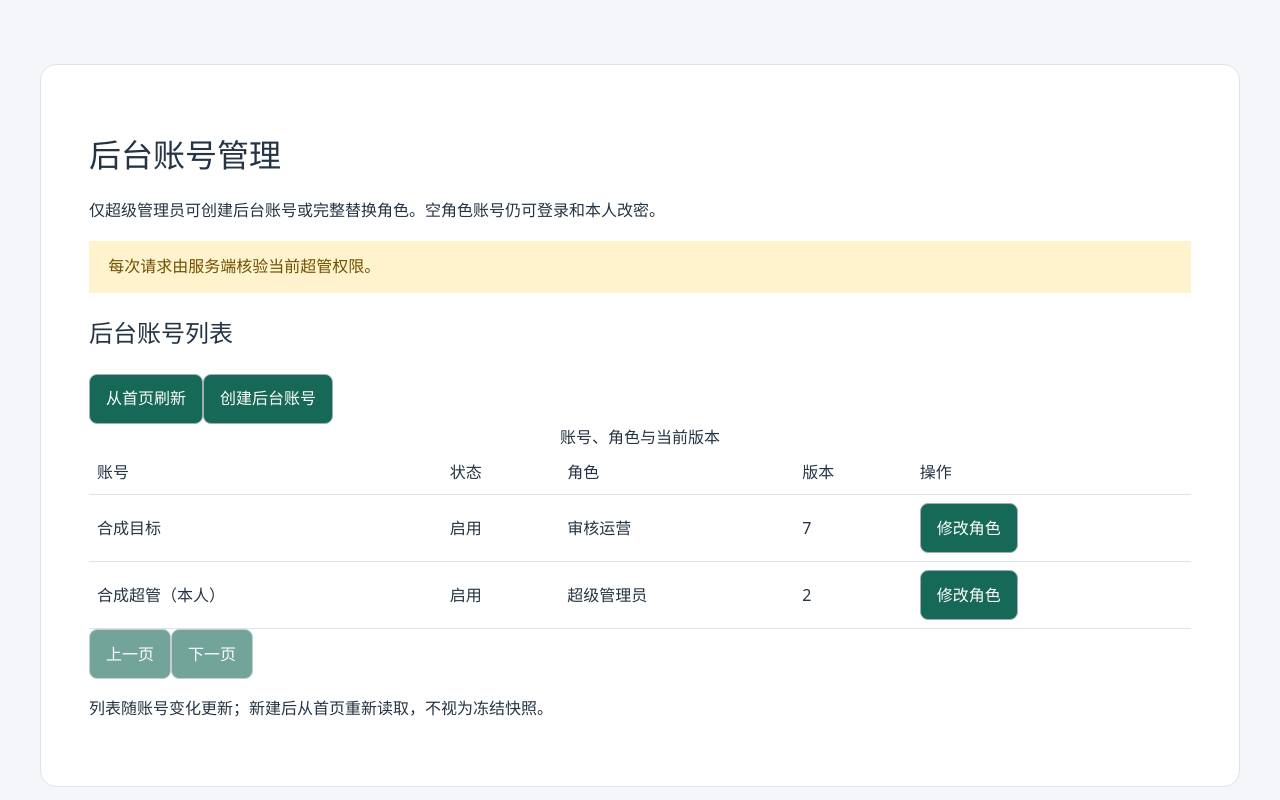
it: T010 REQ-018/019 后台账号管理页面 › 修改角色发送目标版本及完整空角色数组，禁止重复提交
Click the button "修改角色" in the row of "合成目标" at (969, 528), box [920, 503, 1018, 553]
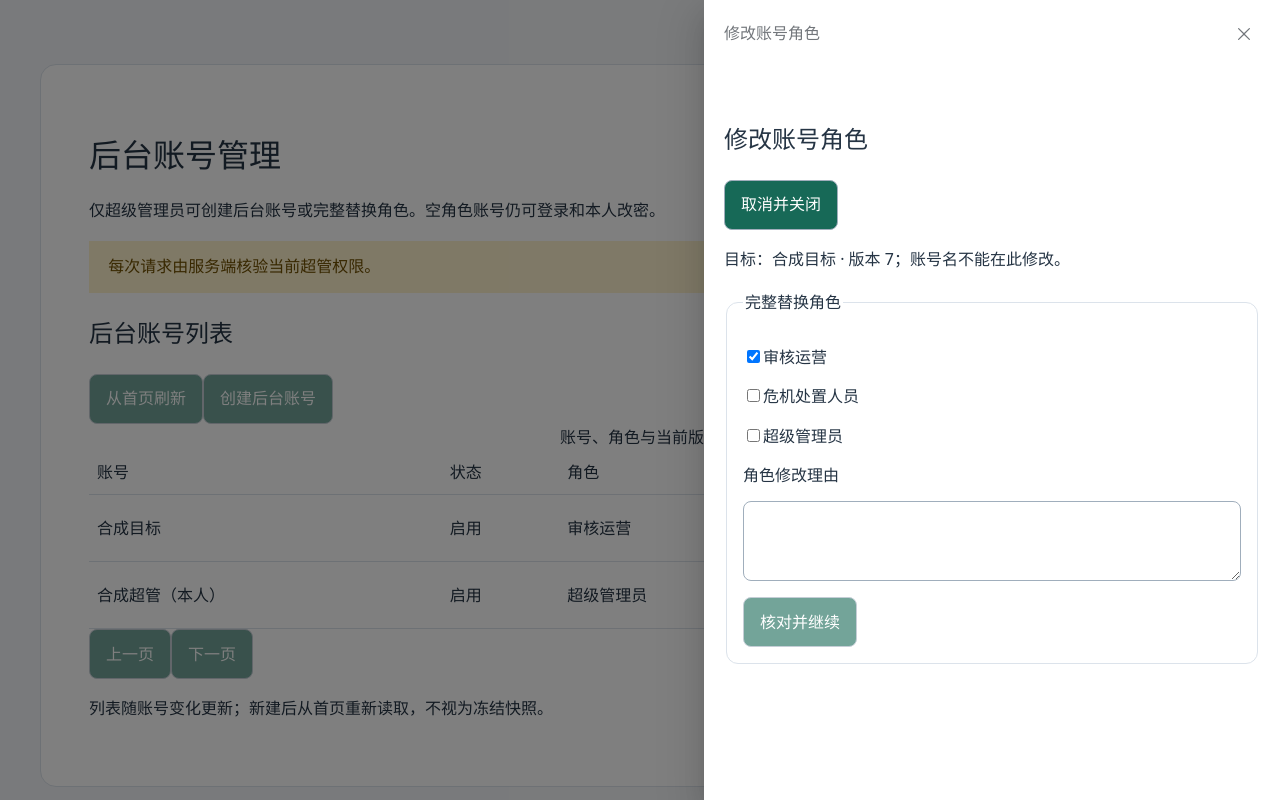
Type "合成授权理由" into the text box with id "account-reason" at (992, 541), box [743, 501, 1241, 581]
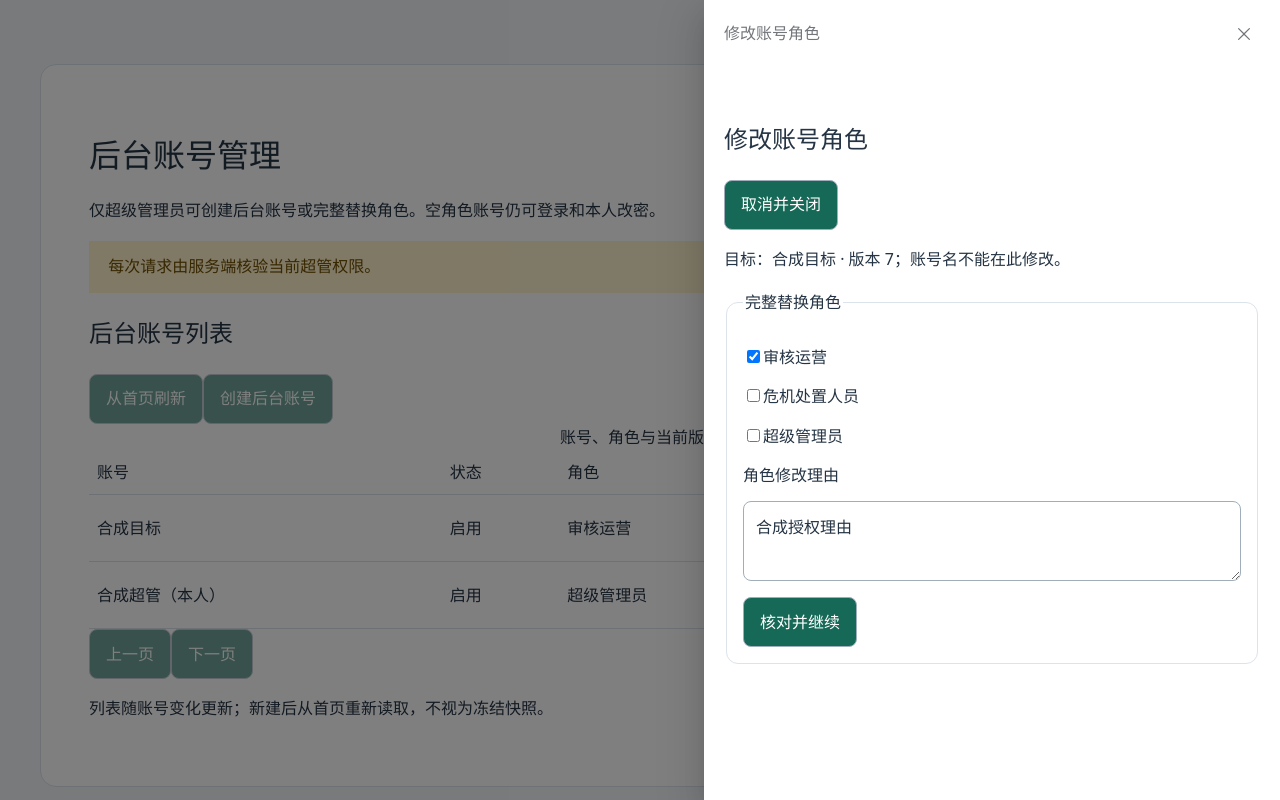
Click the checkbox labelled "审核运营" at (754, 357), box [747, 350, 760, 363]
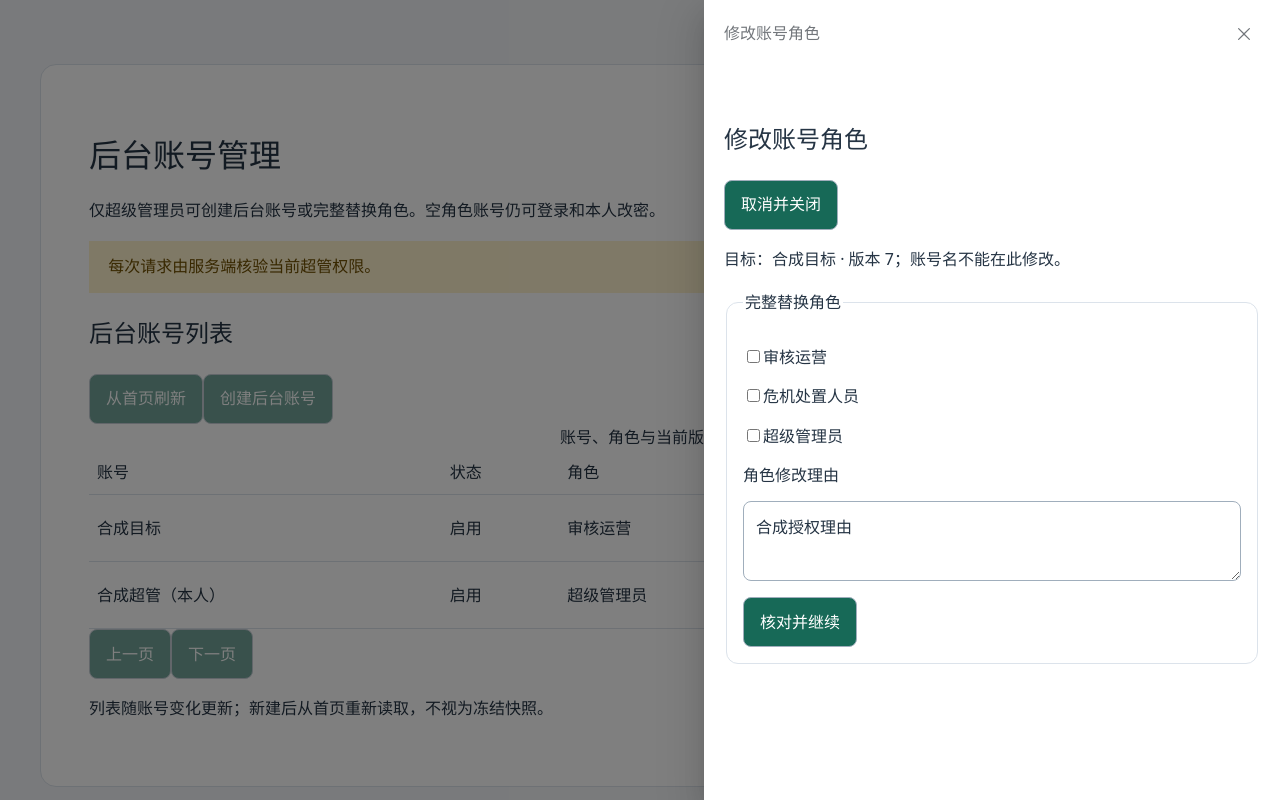
Submit the form, box [724, 289, 1260, 664]
(page scrolled)
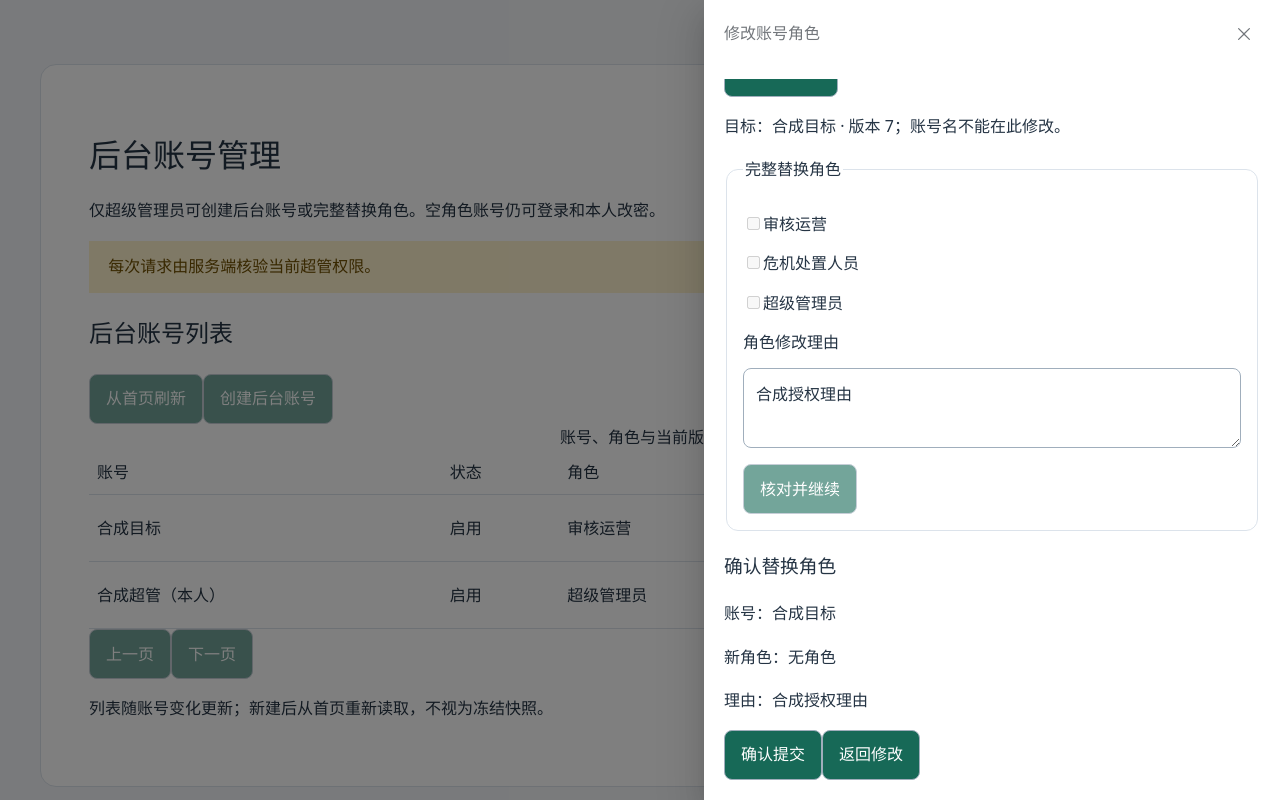
Click the button "确认提交" at (773, 755), box [724, 730, 822, 780]
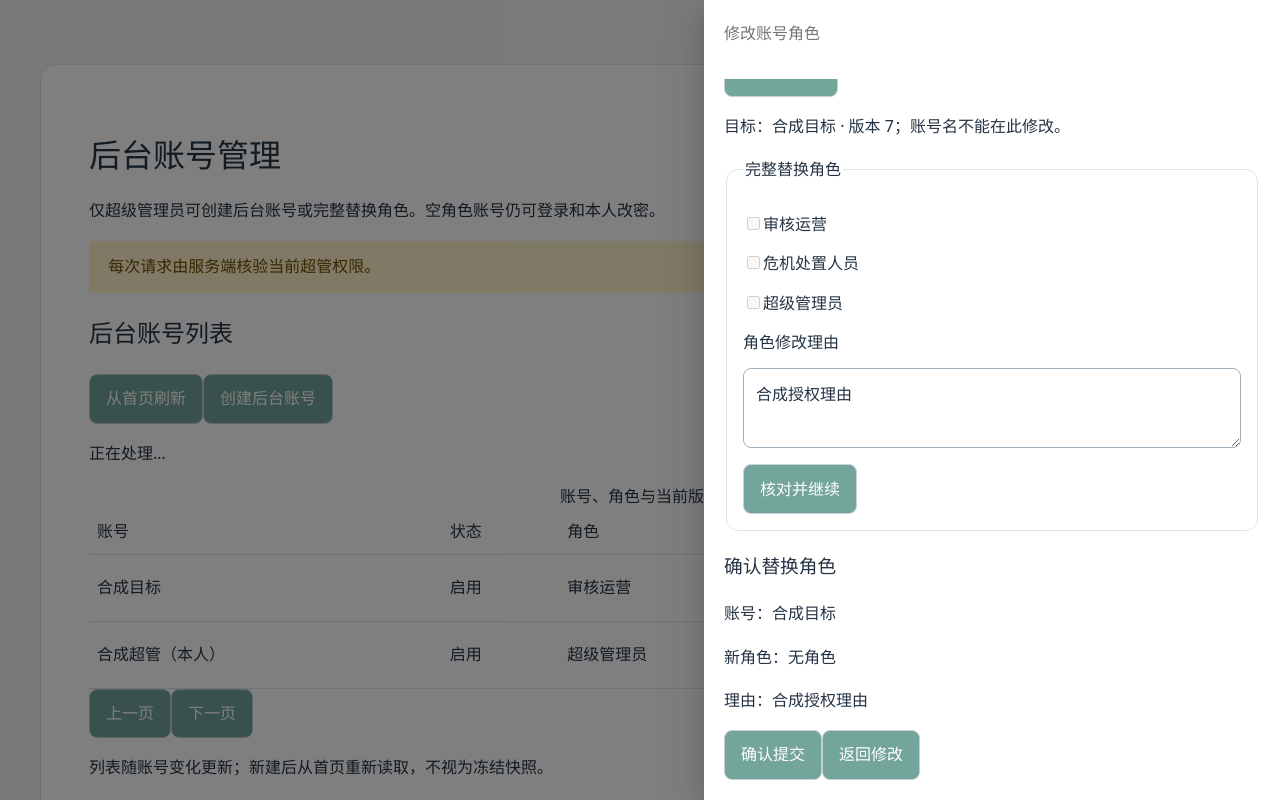
Click the button "确认提交" at (773, 755), box [724, 730, 822, 780]
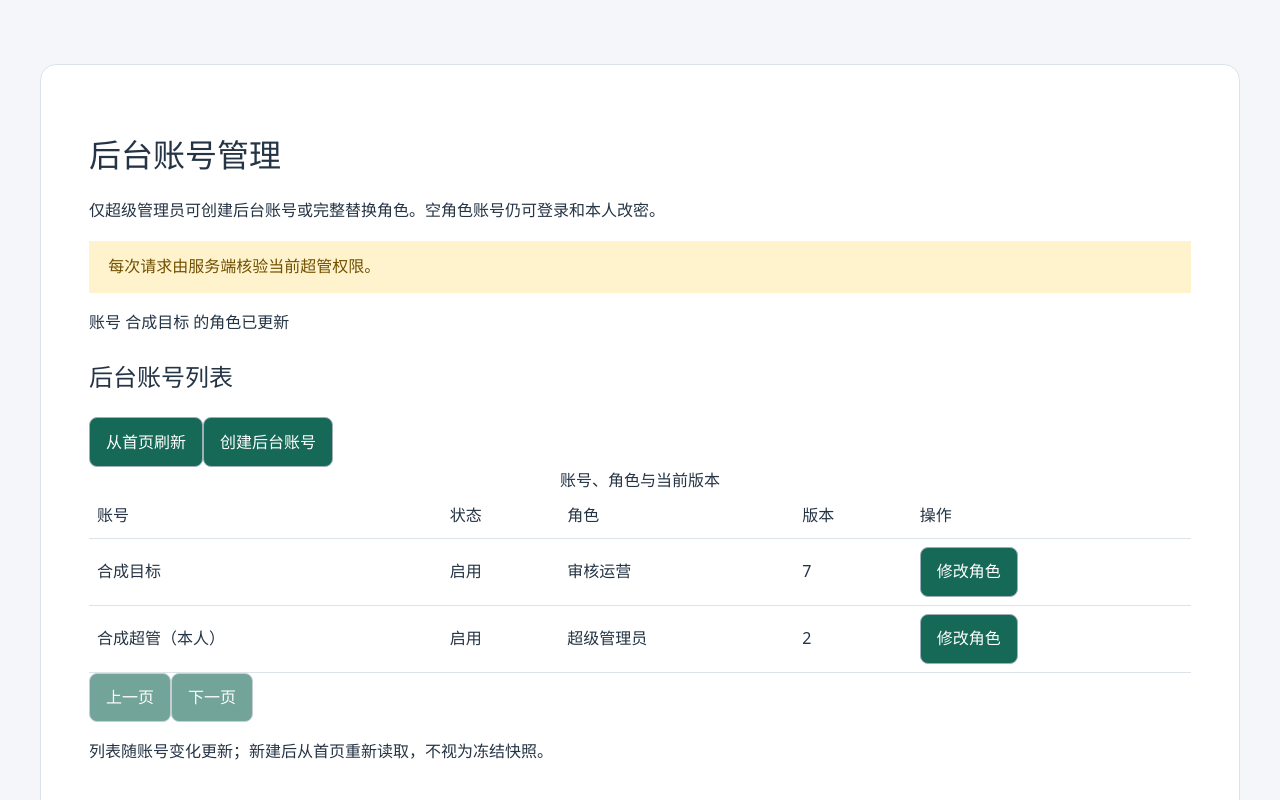
Check: the text "角色已更新" is shown, box [89, 311, 289, 333]
